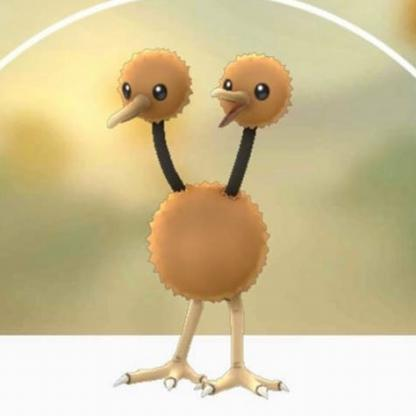Doduo: (105, 38, 300, 400)
